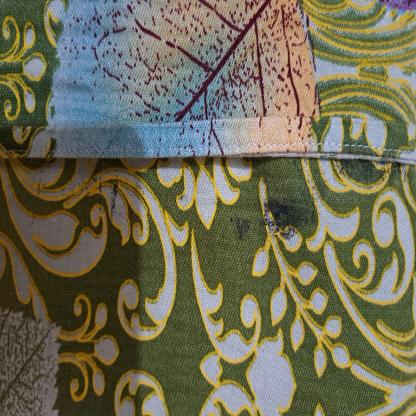spot: (330, 142, 412, 187), (258, 192, 324, 239), (232, 209, 256, 238)
